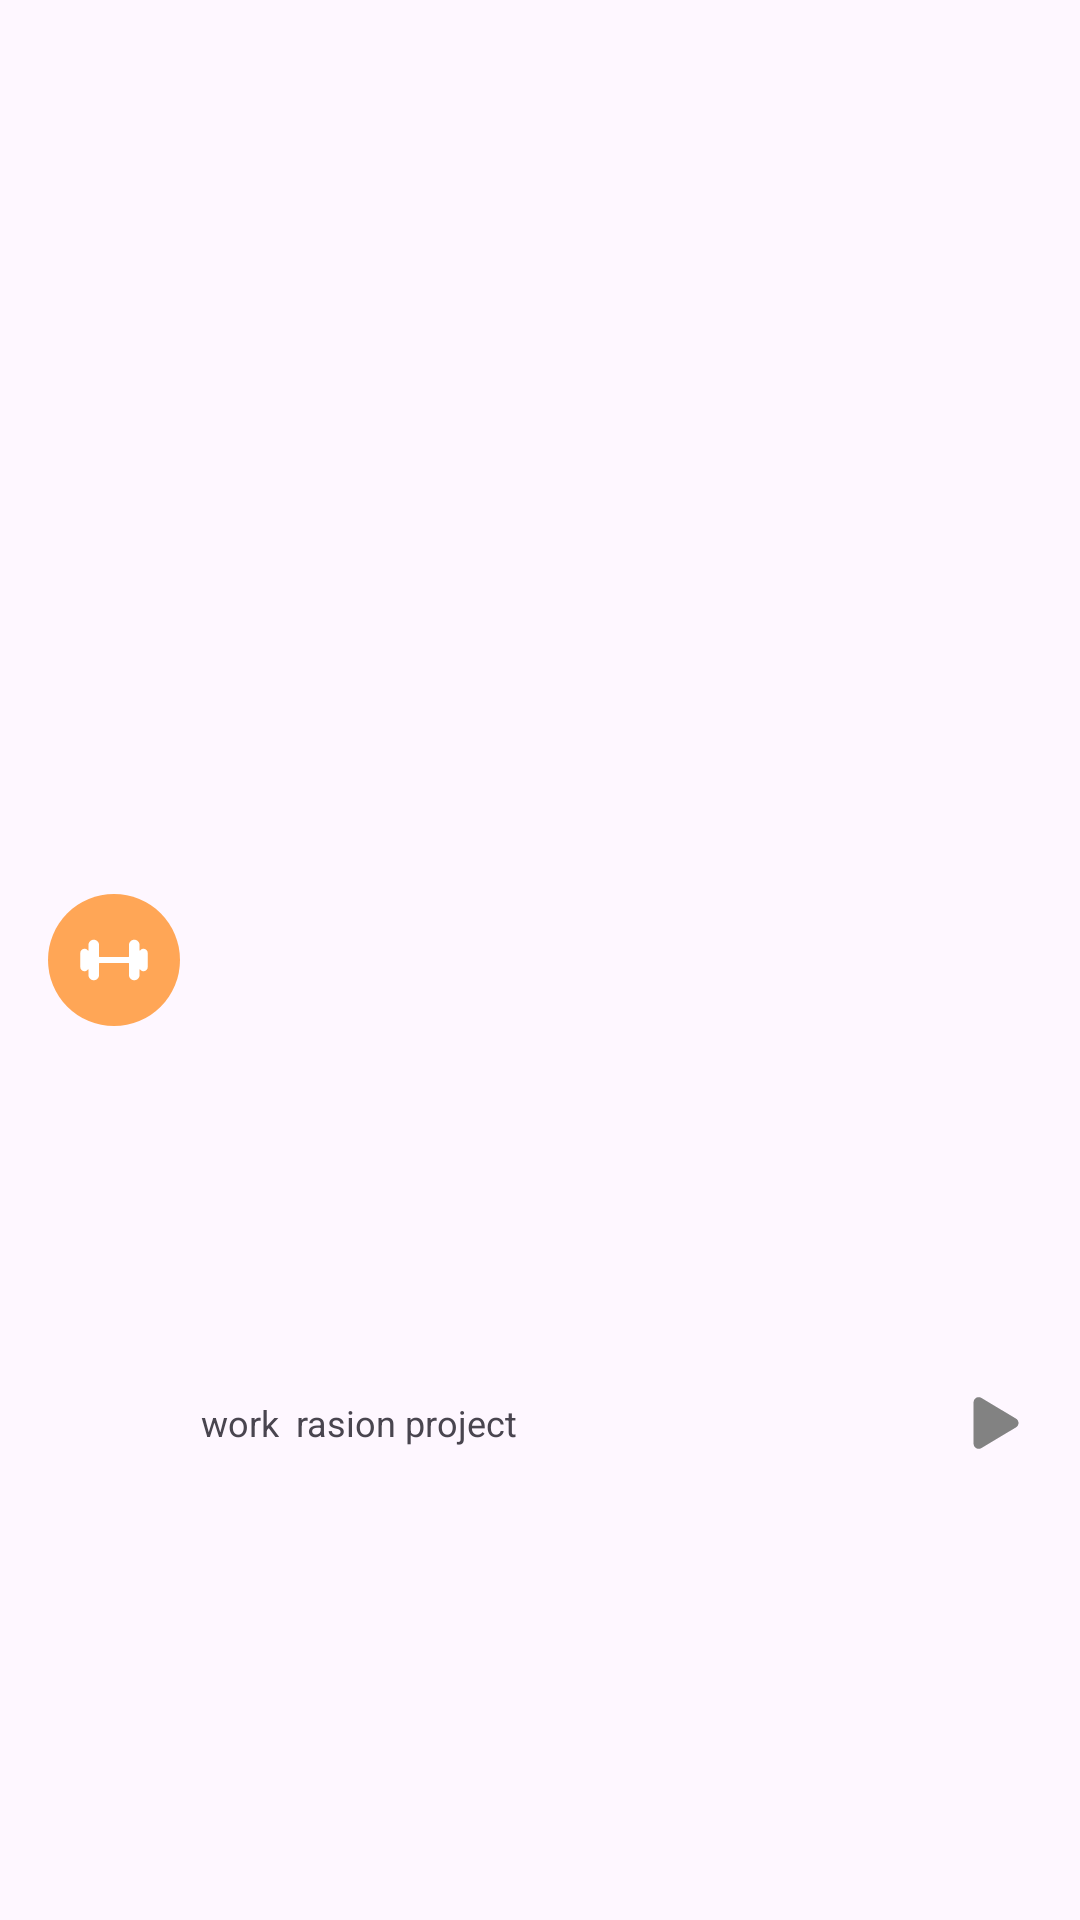

Locate icon controls on the screen. Image size 1080×1920, boxes as (x1, y1, x2, y2).
barbell circle: (48, 894, 180, 1026)
play: (973, 1397, 1019, 1449)
